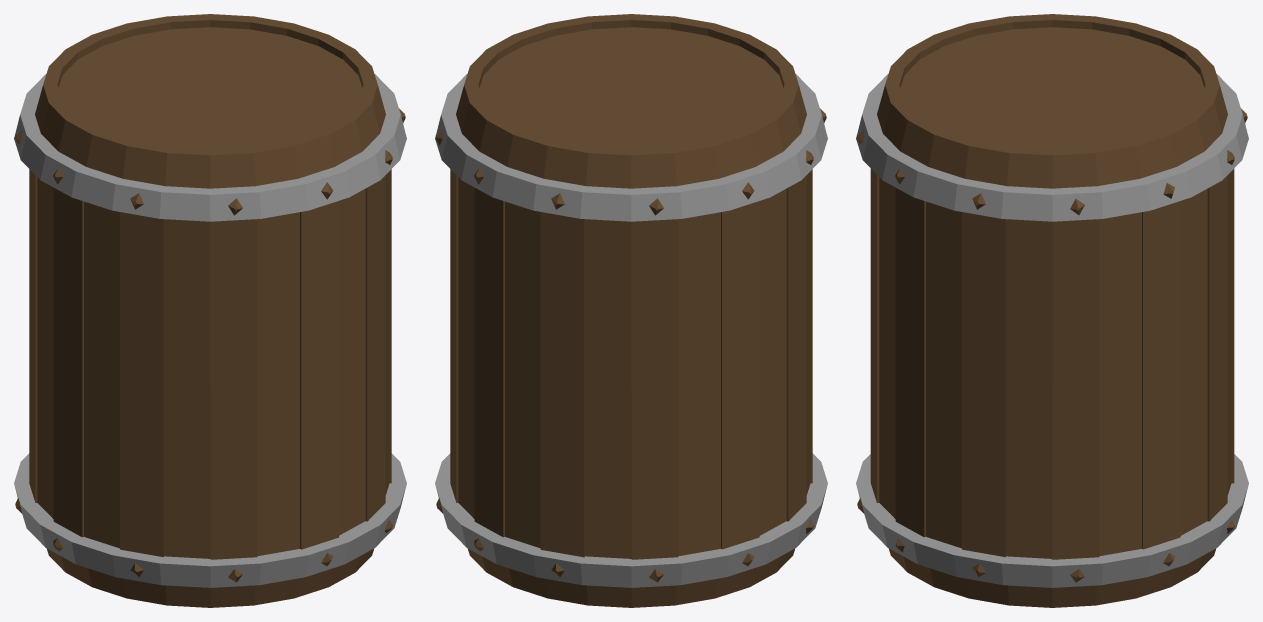
Rendered from barrel1.fbx.
3 views of the same model, side by side, from view 1: azimuth 30°, elevation 25°; view 2: azimuth 150°, elevation 25°; view 3: azimuth 270°, elevation 25° (orthographic).
Visible parts, largest first — view 1: barrel; view 2: barrel; view 3: barrel.
Boxes of the visible parts, left/top/right/bottom form: barrel: left=14, top=14, right=406, bottom=607; barrel: left=435, top=14, right=827, bottom=607; barrel: left=856, top=14, right=1248, bottom=607.
Bounding box in the file's own units: 2.68 × 3.4 × 2.68.
